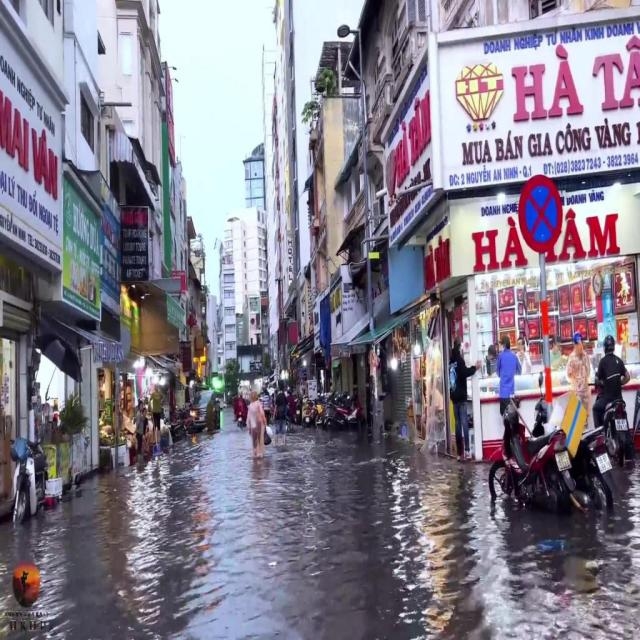cam_dung_xe_va_do_xe: (518, 172, 563, 255)
